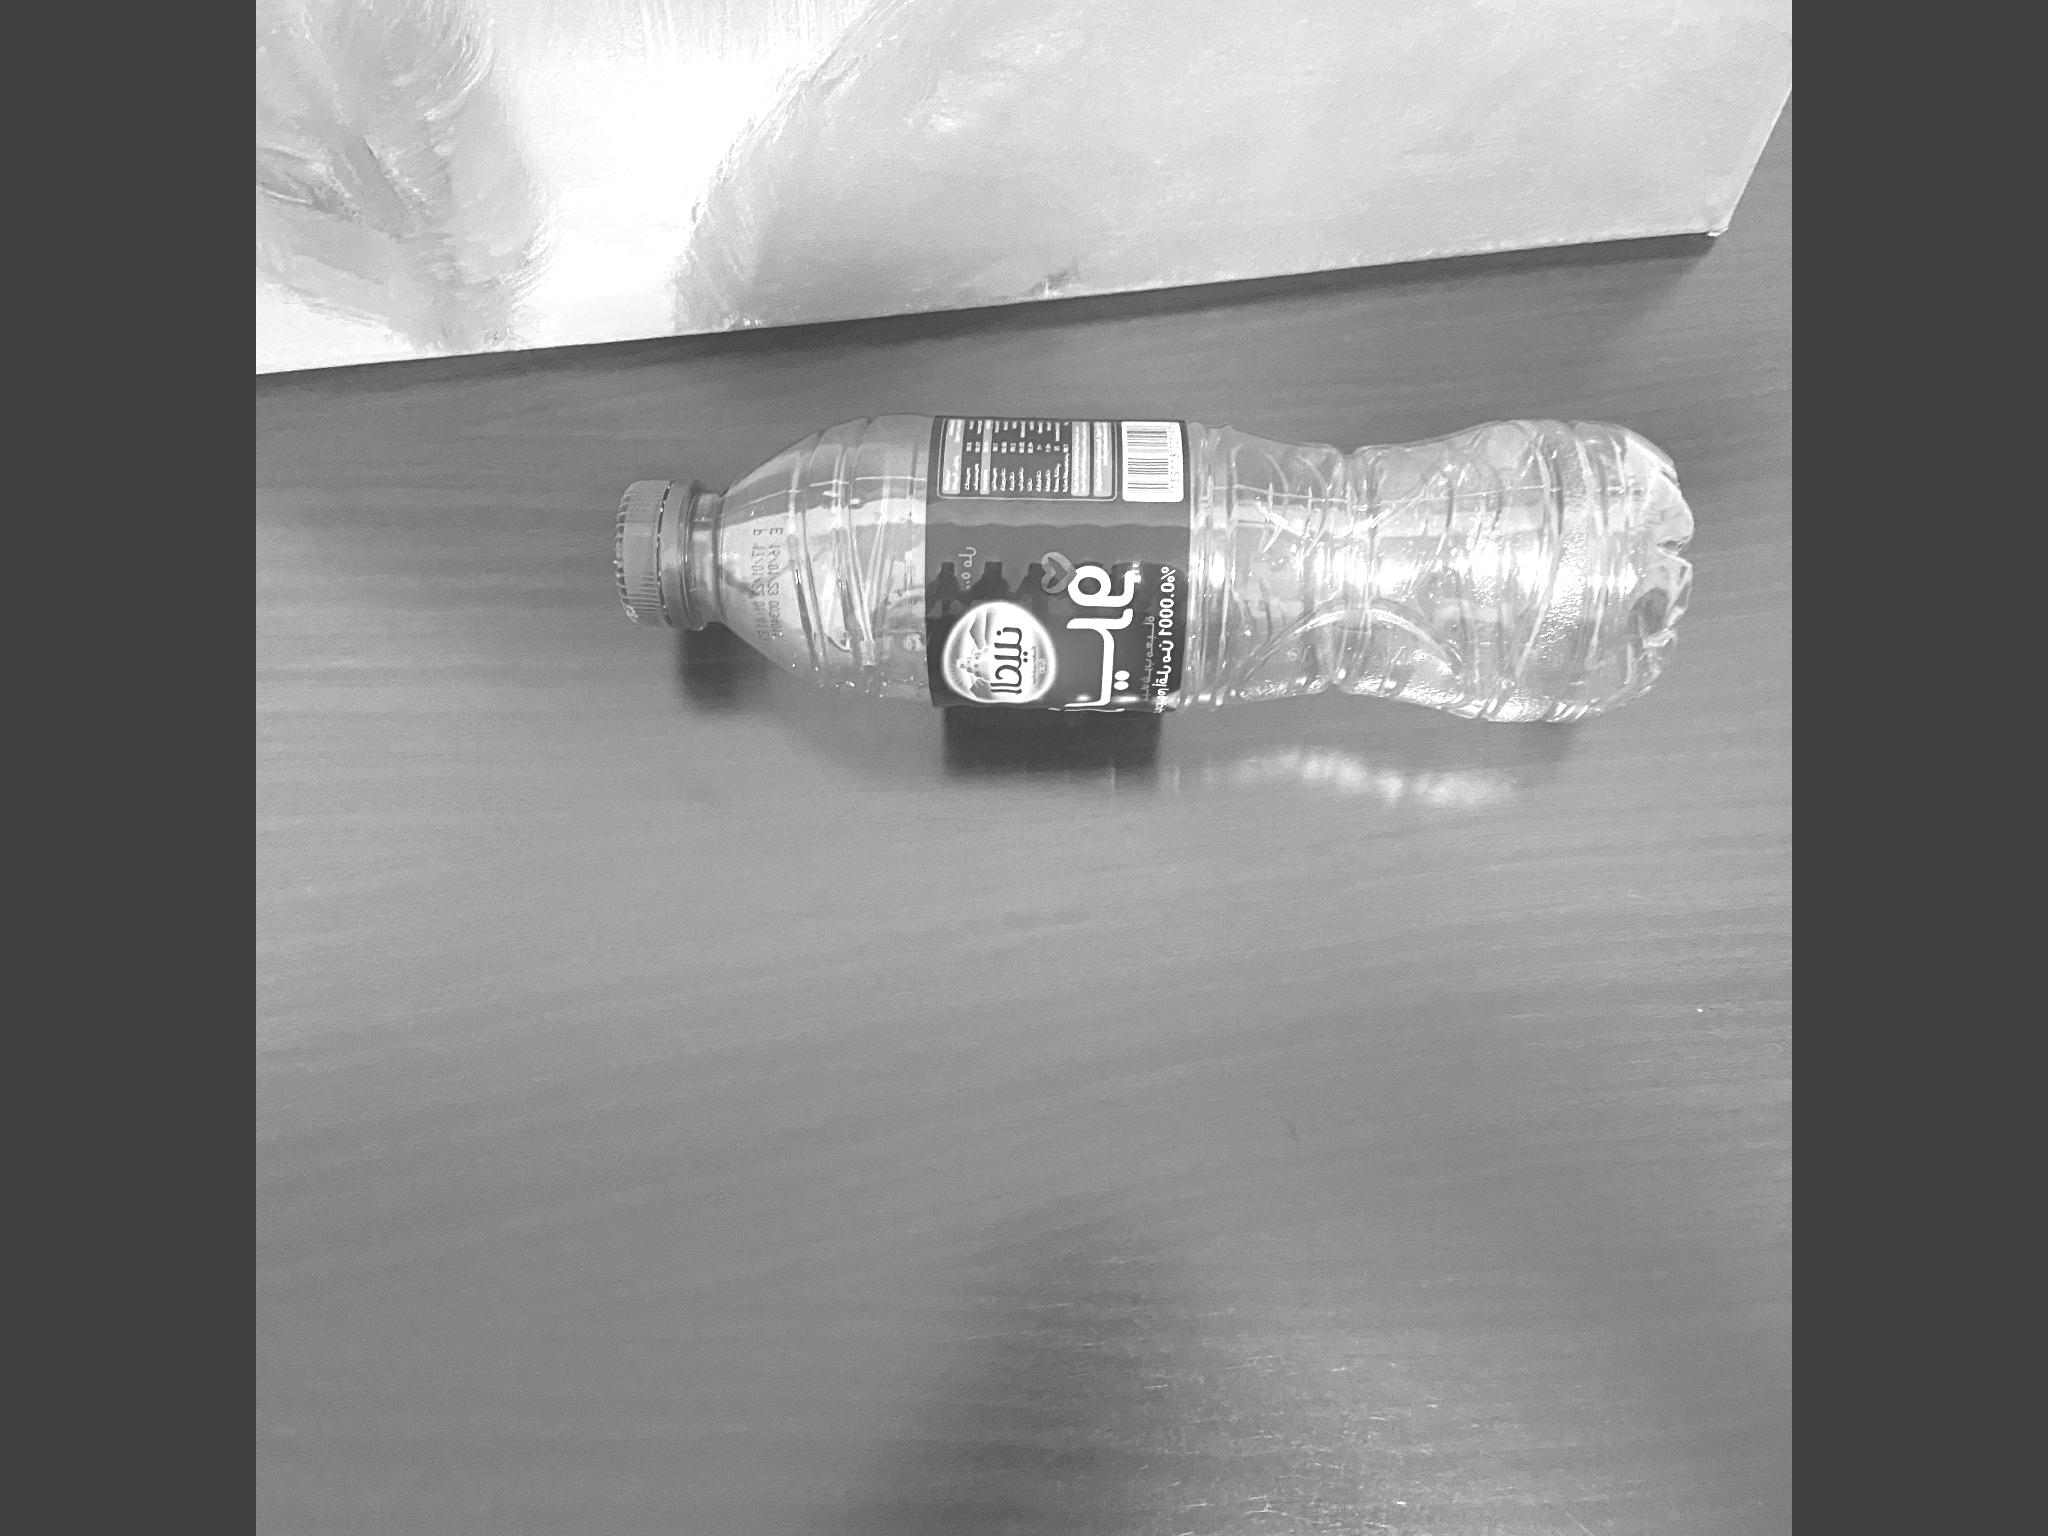bottle: (614, 374, 1710, 756)
